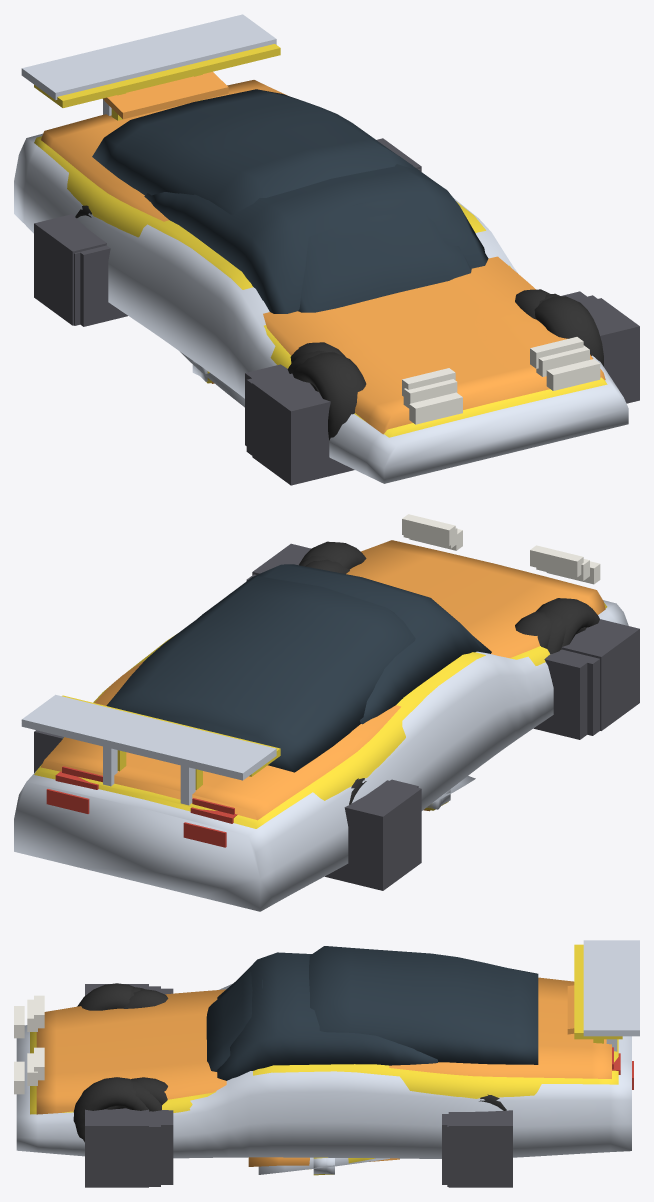
The model's file is cars.glb.
The picture shows the model from 3 angles, top to bottom: view 1: azimuth 30°, elevation 25°; view 2: azimuth 150°, elevation 25°; view 3: azimuth 270°, elevation 25°; orthographic projection. The views are drawn at different scales.
Parts seen in each view (by area): view 1: super_body, street_body, street_glass, perf_glass, super_interior, super_glass, super_spoiler, perf_body, street_interior, super_wheel_fl, perf_spoiler, street_spoiler (+5 smaller); view 2: super_body, street_glass, street_body, super_interior, super_spoiler, perf_glass, perf_body, street_interior, street_lights_f, super_lights_r, super_wheel_fl, perf_interior (+6 smaller); view 3: super_body, street_body, street_glass, perf_glass, super_interior, super_spoiler, perf_body, super_glass, super_wheel_fr, street_interior, perf_spoiler, super_wheel_fl (+10 smaller).
Boxes of the visible parts, bbox=[...] form: super_body: bbox=[14, 133, 628, 483]; street_body: bbox=[41, 80, 605, 434]; street_glass: bbox=[92, 89, 415, 214]; perf_glass: bbox=[144, 156, 488, 313]; super_interior: bbox=[34, 138, 639, 485]; super_glass: bbox=[298, 200, 471, 312]; super_spoiler: bbox=[21, 14, 276, 115]; perf_body: bbox=[34, 136, 607, 437]; street_interior: bbox=[80, 246, 591, 445]; super_wheel_fl: bbox=[292, 352, 366, 440]; perf_spoiler: bbox=[34, 44, 280, 120]; street_spoiler: bbox=[103, 71, 228, 119]; super_body: bbox=[14, 600, 628, 911]; street_glass: bbox=[106, 576, 415, 772]; street_body: bbox=[41, 540, 605, 820]; super_interior: bbox=[34, 543, 639, 890]; super_spoiler: bbox=[21, 694, 276, 805]; perf_glass: bbox=[199, 564, 491, 724]; perf_body: bbox=[34, 603, 607, 828]; street_interior: bbox=[390, 649, 593, 787]; street_lights_f: bbox=[402, 514, 583, 577]; super_lights_r: bbox=[46, 789, 226, 847]; super_wheel_fl: bbox=[536, 598, 599, 649]; perf_interior: bbox=[246, 574, 599, 735]; super_body: bbox=[16, 983, 631, 1158]; street_body: bbox=[36, 977, 611, 1114]; street_glass: bbox=[309, 946, 538, 1064]; perf_glass: bbox=[217, 952, 437, 1080]; super_interior: bbox=[85, 984, 512, 1187]; super_spoiler: bbox=[583, 940, 639, 1051]; perf_body: bbox=[30, 1032, 618, 1114]; super_glass: bbox=[206, 971, 262, 1071]; super_wheel_fr: bbox=[73, 1077, 149, 1142]; street_interior: bbox=[149, 988, 448, 1184]; perf_spoiler: bbox=[574, 944, 622, 1043]; super_wheel_fl: bbox=[77, 983, 133, 1010].
Size of the model in its own units: 2.51 by 1.36 by 4.68.
